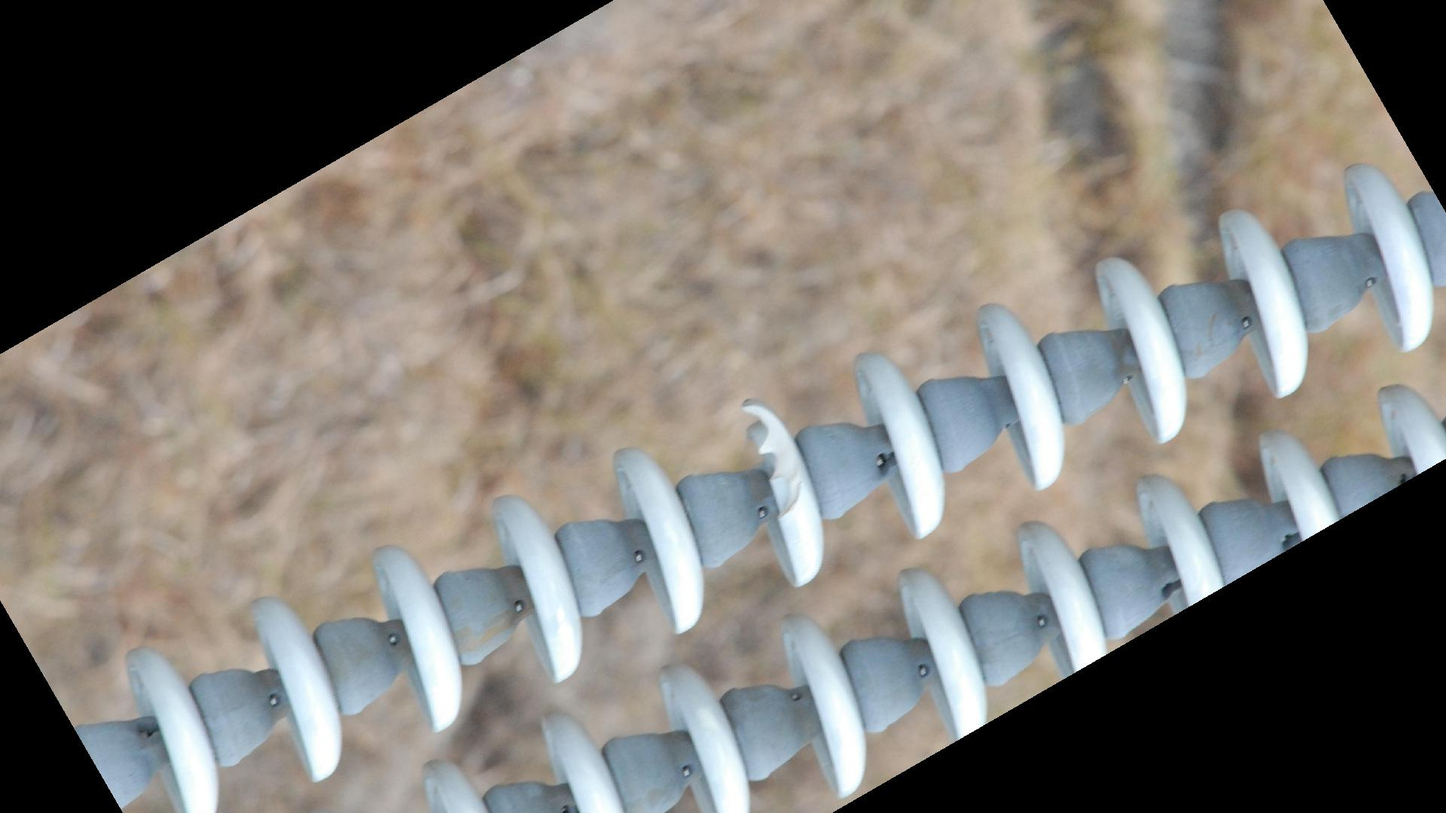insulator: (118, 153, 1446, 813), (414, 376, 1446, 813)
insulator_breakage: (734, 399, 808, 528)
